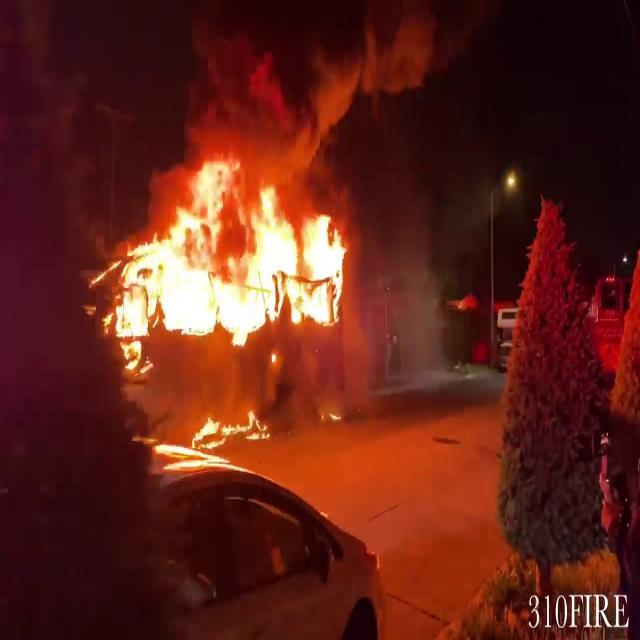Fire: (91, 146, 355, 350), (158, 408, 268, 472)
